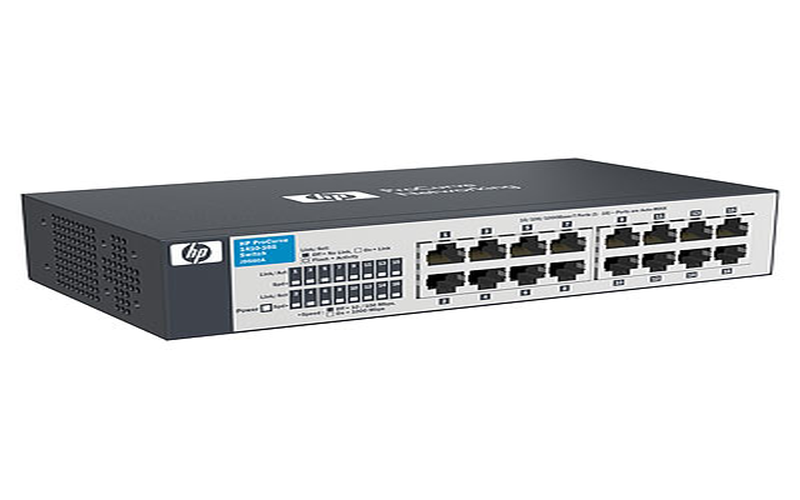Switches: (12, 117, 800, 345)
